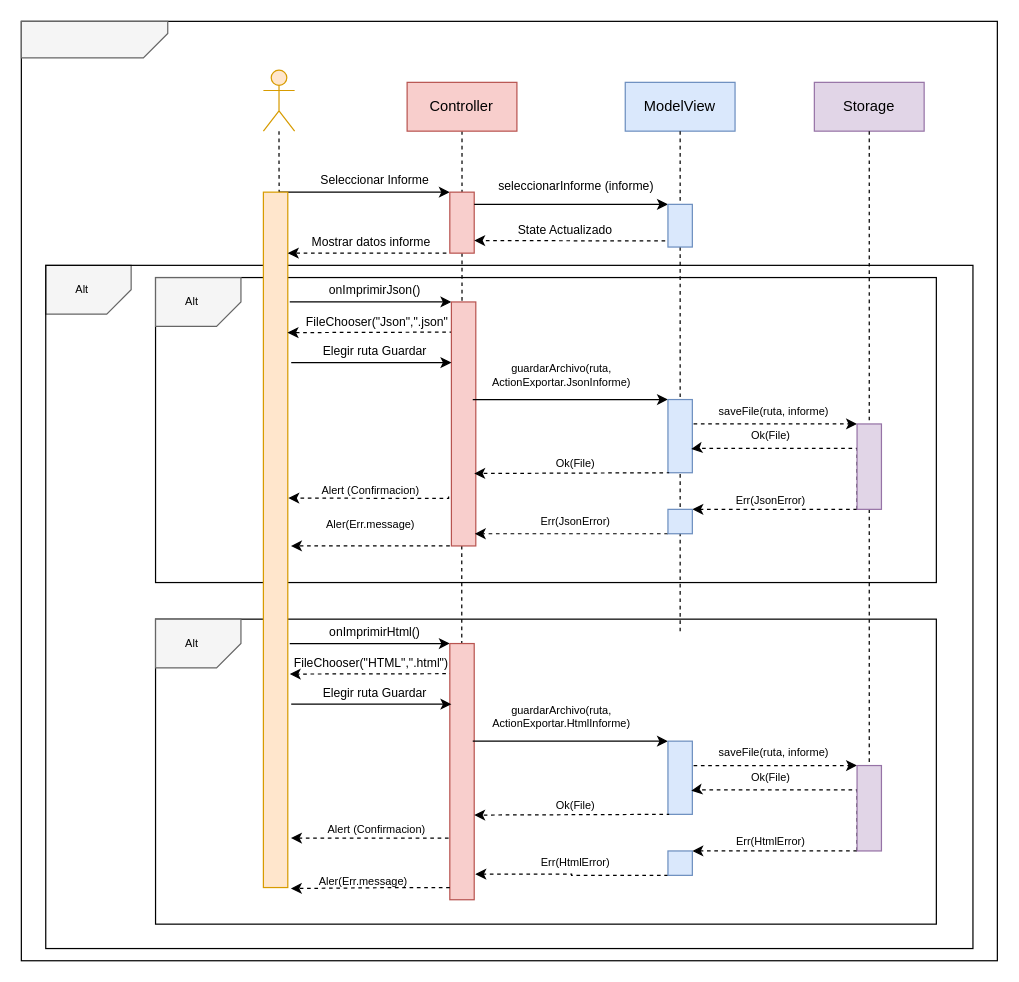
The diagram is 1019 pixels wide and 982 high, and some of its shapes have lost their labels. Here are the shapes that lost their labels. From the top down, the centre of each, then its label:
point 94,39: IImprimir Informe
point 278,100: <Trabajador>
